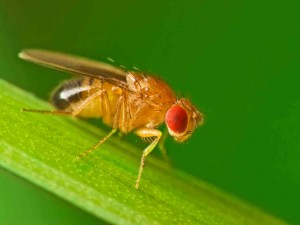phorid fly: (12, 33, 211, 197)
